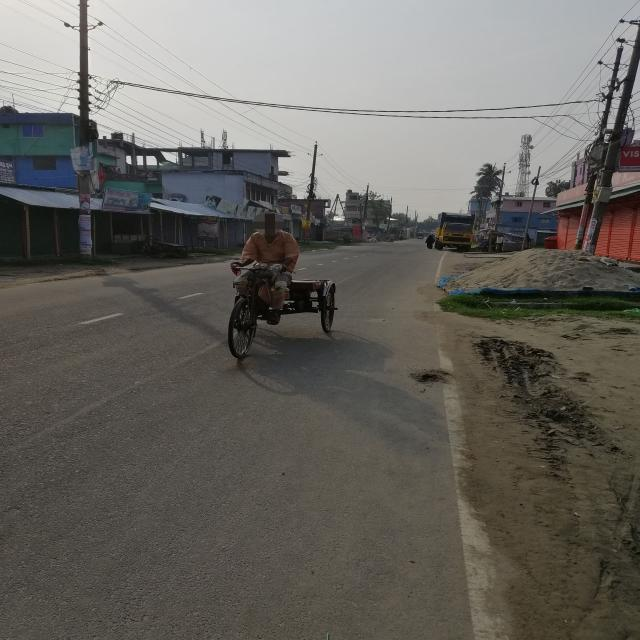Van: (224, 265, 343, 369)
